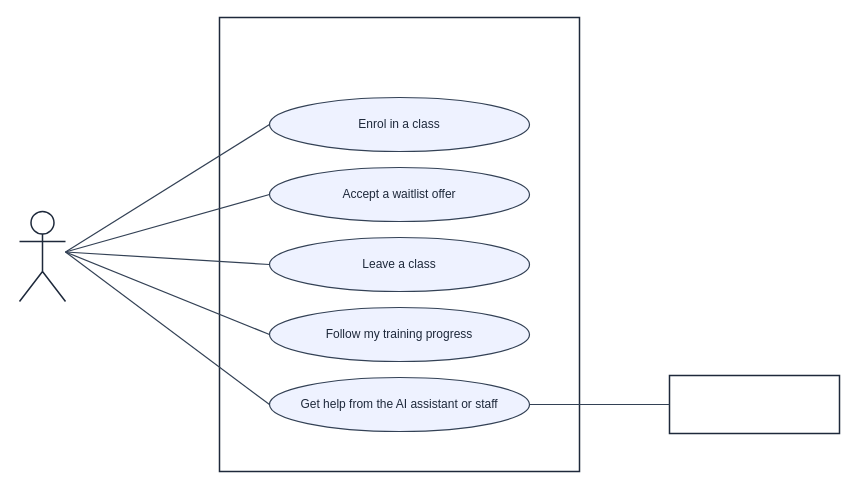
The diagram is 858 pixels wide and 490 high, and some of its shapes have lost their labels. Each missing label, with the box of its shape:
Arena3 Sports Centre Management System: (218, 16, 580, 472)
Member: (18, 210, 66, 302)
«actor» Gemini AI: (668, 374, 840, 434)
